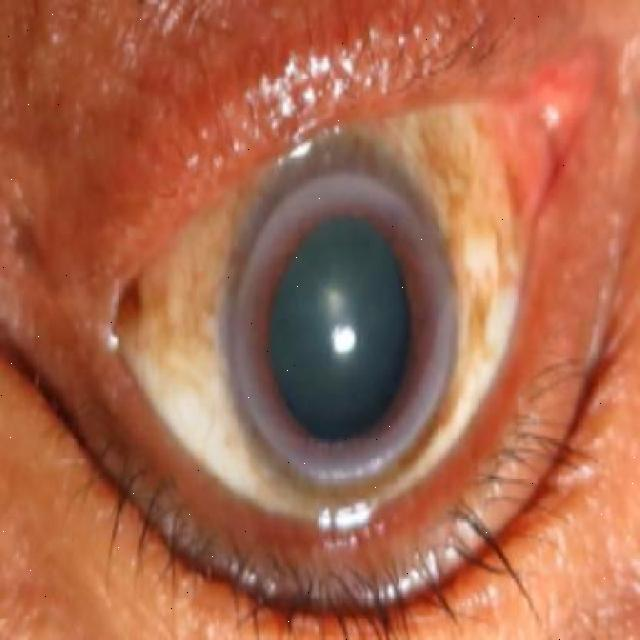Cataract: (230, 167, 461, 484)
